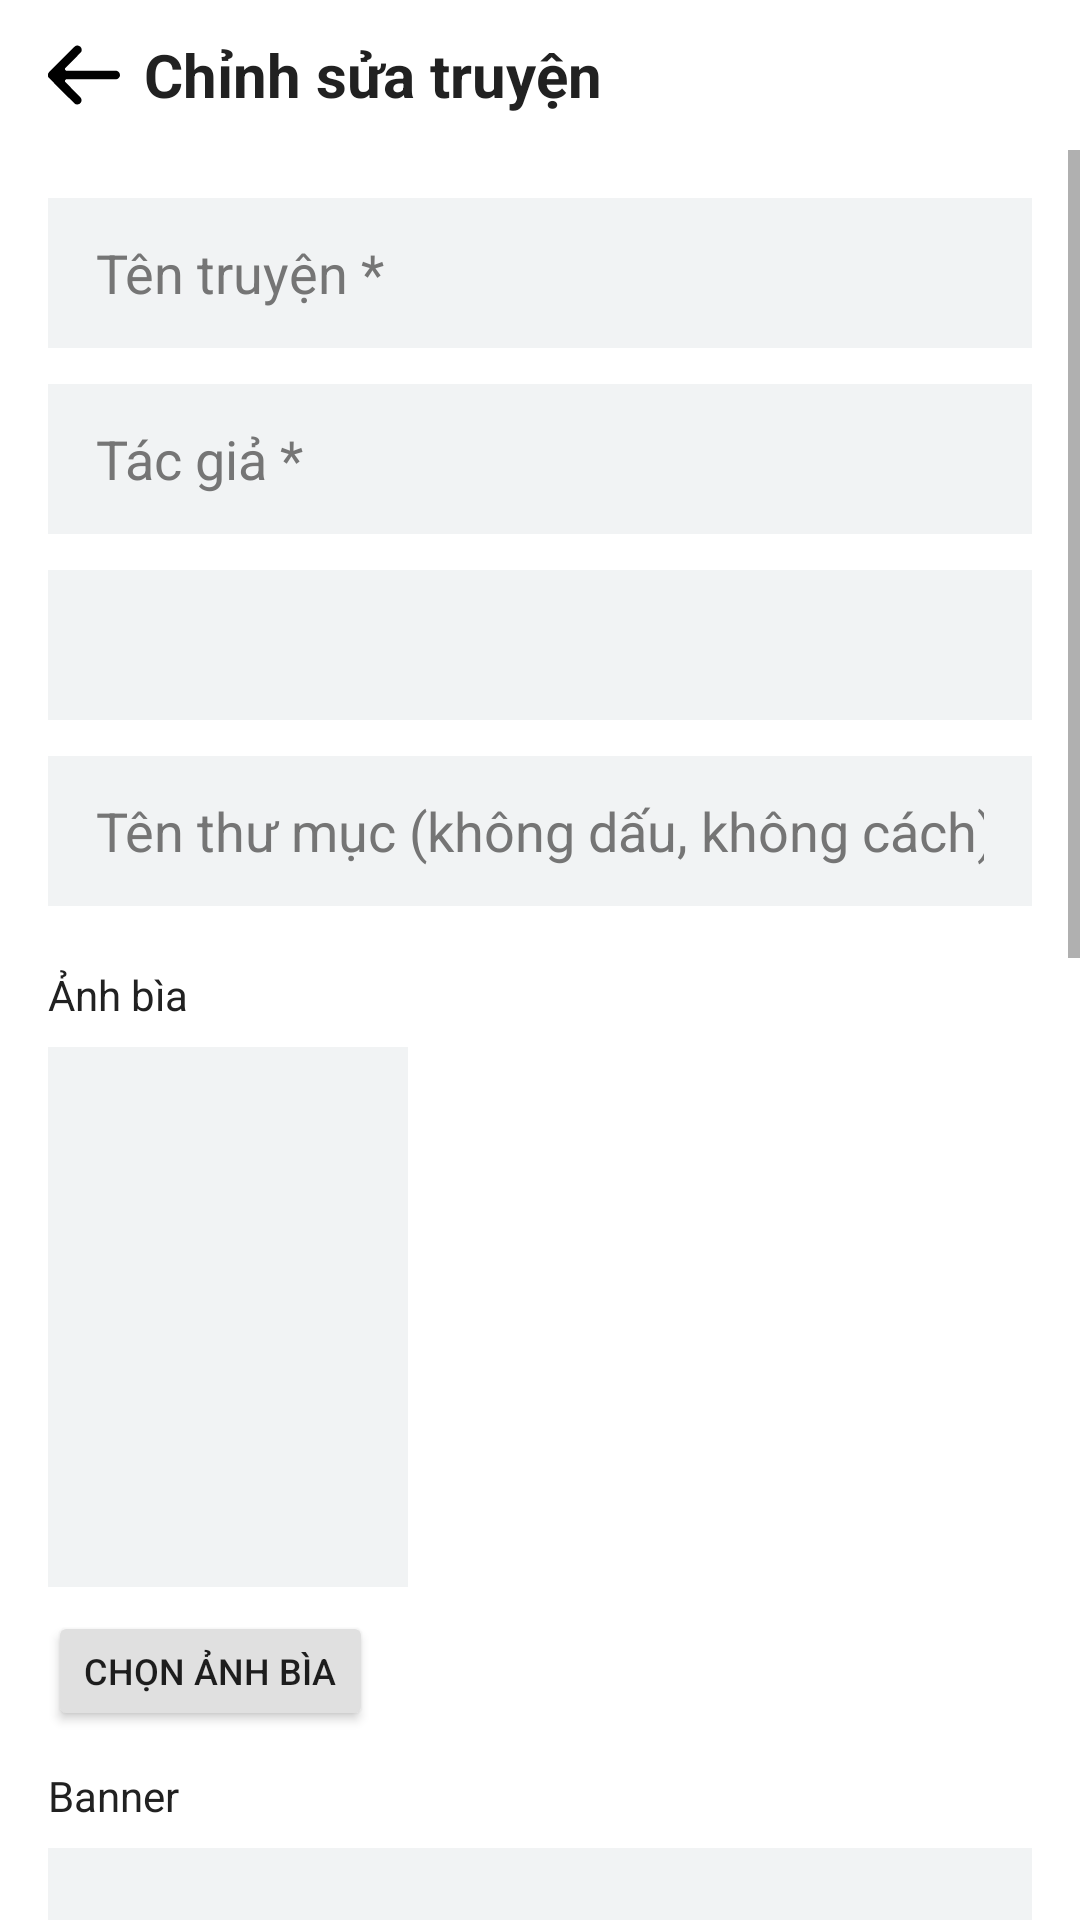

Where icons sit on this 1080px x 1920px app screen, as (x1, y1, x2, y2):
Back: (48, 45, 120, 105)
